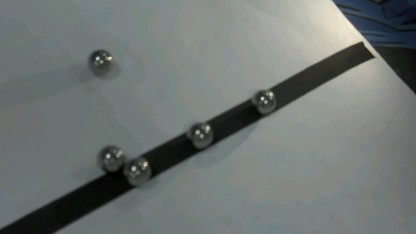ironball: (90, 140, 126, 173), (81, 45, 118, 75), (246, 85, 278, 116), (124, 152, 152, 185), (184, 118, 208, 151)
